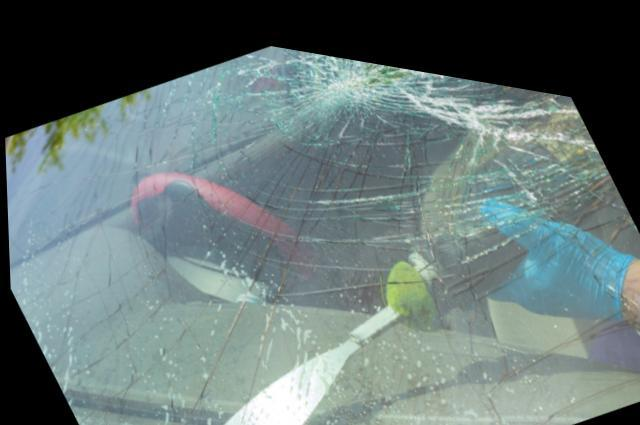glass shatter: (4, 36, 640, 425)
